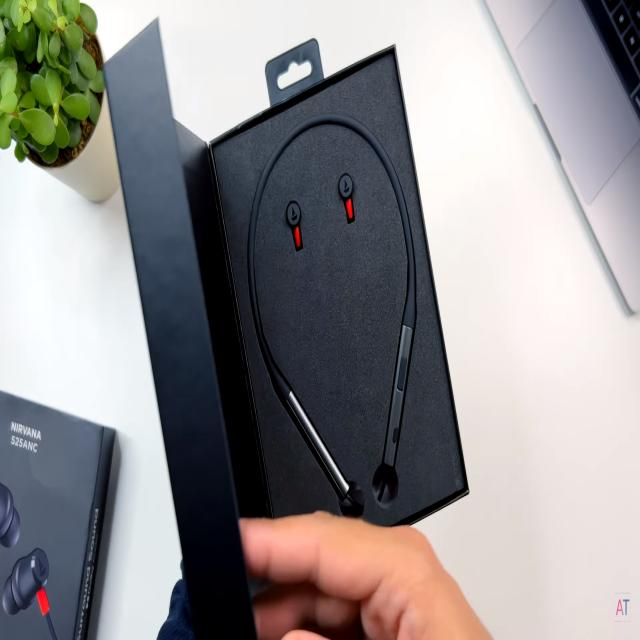Neckband: (247, 112, 416, 519)
